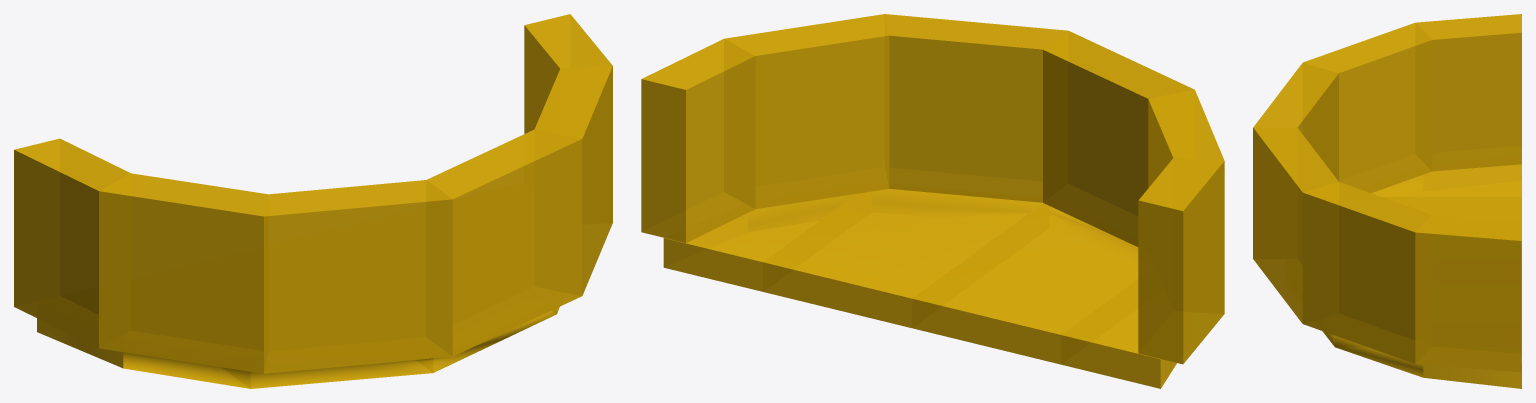
File: SM_Bld_Balcony_Manor_01_Collision.fbx
3 renders of one model, left to right at view 1: azimuth 30°, elevation 25°; view 2: azimuth 150°, elevation 25°; view 3: azimuth 270°, elevation 25°, orthographic. The views are drawn at different scales.
Visible parts, largest first — view 1: SM_Bld_Balcony_Manor_01_Collision; view 2: SM_Bld_Balcony_Manor_01_Collision; view 3: SM_Bld_Balcony_Manor_01_Collision.
Boxes of the visible parts, x1,y1,x2,y2 form: SM_Bld_Balcony_Manor_01_Collision: [14, 14, 612, 388]; SM_Bld_Balcony_Manor_01_Collision: [641, 14, 1224, 388]; SM_Bld_Balcony_Manor_01_Collision: [1253, 14, 1521, 388].
Bounding box in the file's own units: 273 × 88.01 × 136.
